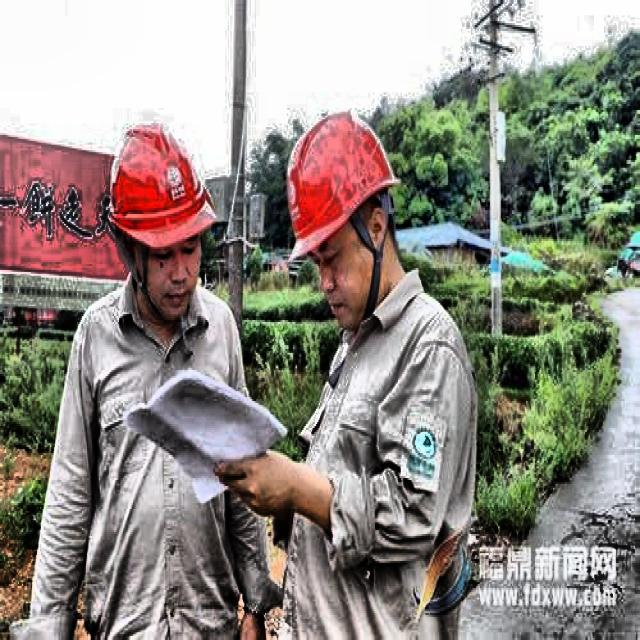helmet: (269, 87, 416, 335), (98, 98, 226, 336)
